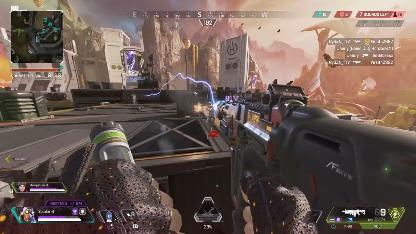Target: (206, 102, 216, 130)
